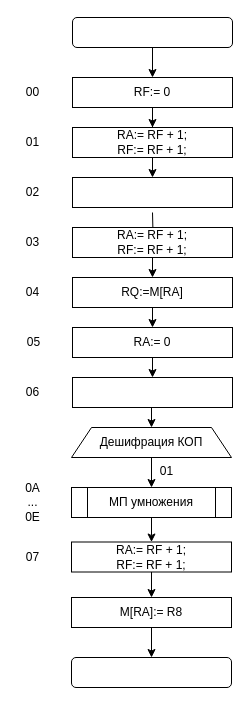
Some shapes in this 250 by 705 pixel diagram are drawn without their labels. The shapes that lost their labels are listed below. From the top down, each one's centre as x and y in pixels, then its label:
(x=152, y=32): НАЧАЛО
(x=152, y=192): R0:=M[RA]
(x=152, y=392): УУ[УОП]:=M[RA]
(x=151, y=672): КОНЕЦ
